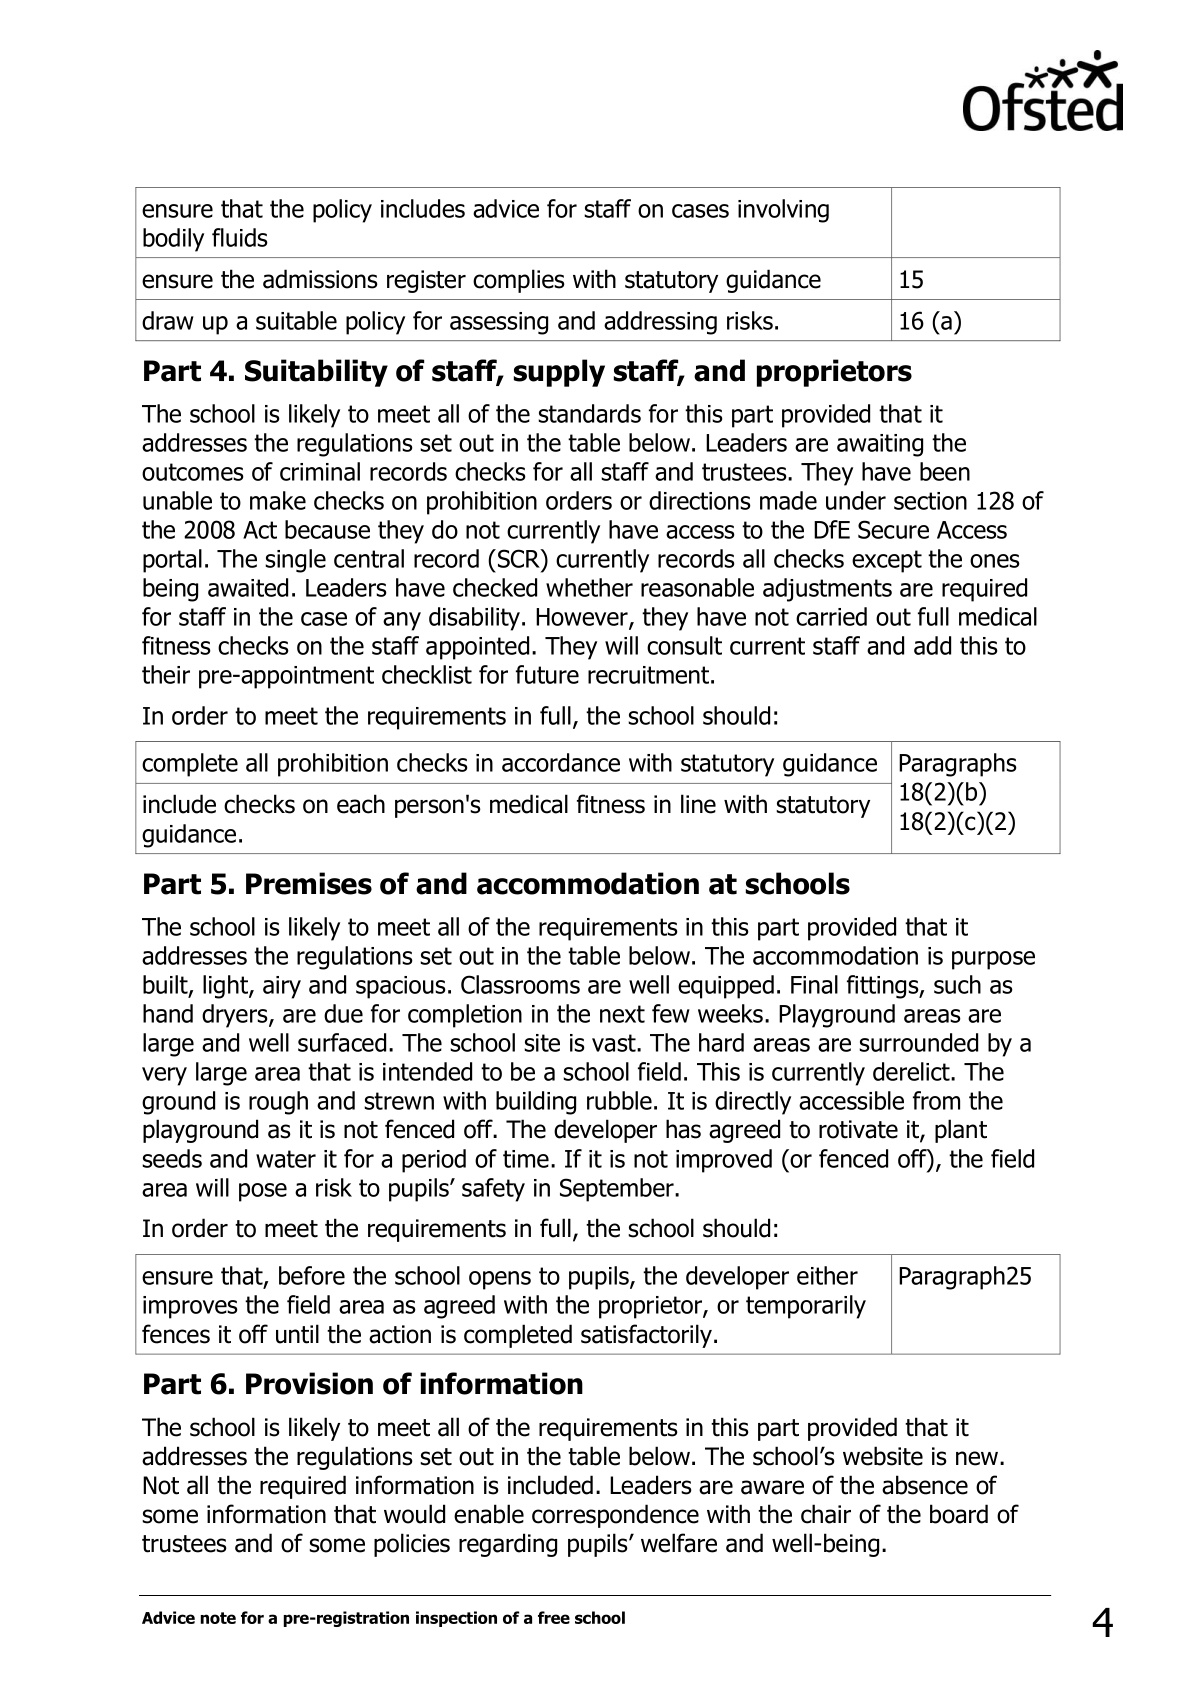full_lined: (134, 185, 1062, 342), (134, 1253, 1062, 1354)
merged_cells: (134, 740, 1062, 855)
